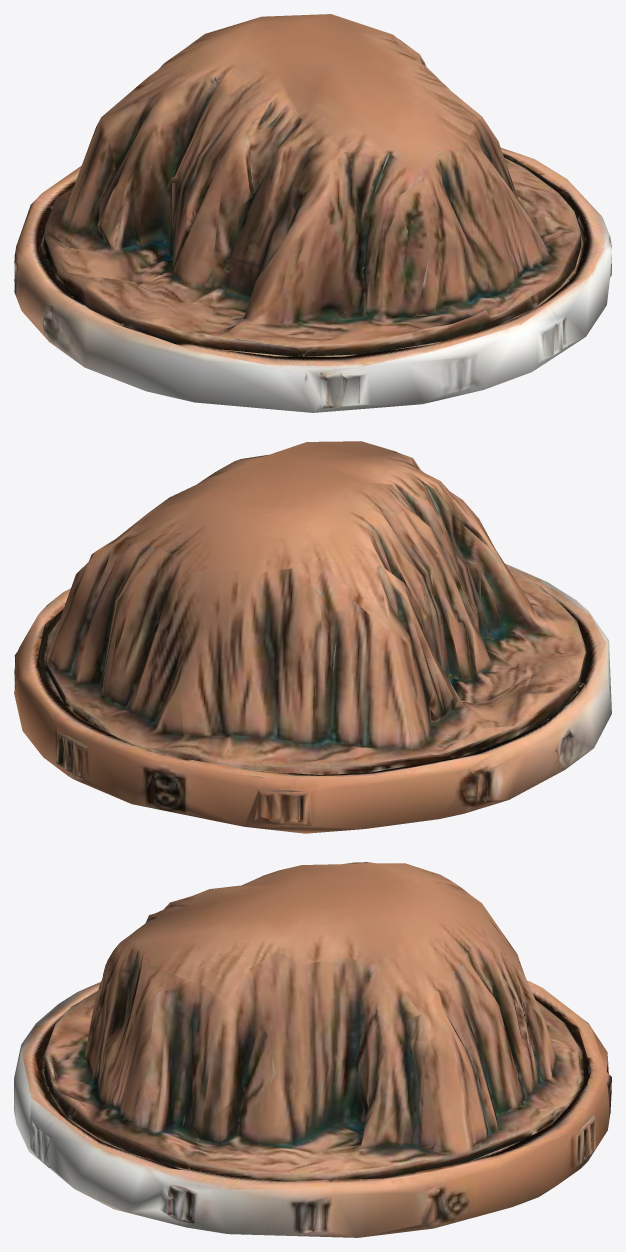
Rendered from uluru_bronze.glb.
The picture shows the model from 3 angles, top to bottom: view 1: azimuth 30°, elevation 25°; view 2: azimuth 150°, elevation 25°; view 3: azimuth 270°, elevation 25°; orthographic projection.
Visible parts, largest first — view 1: Mesh_0; view 2: Mesh_0; view 3: Mesh_0.
Part boxes in pixels (box(x1,y1,x2,y2)): Mesh_0: box(14, 14, 611, 412); Mesh_0: box(14, 441, 611, 833); Mesh_0: box(14, 862, 611, 1237).
Size of the model in its own units: 1.91 by 0.8432 by 1.91.
Materials: 1 (1 with a texture image).
